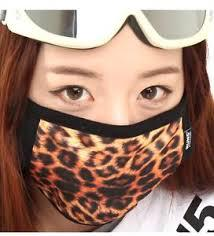OK: (20, 52, 187, 219)
